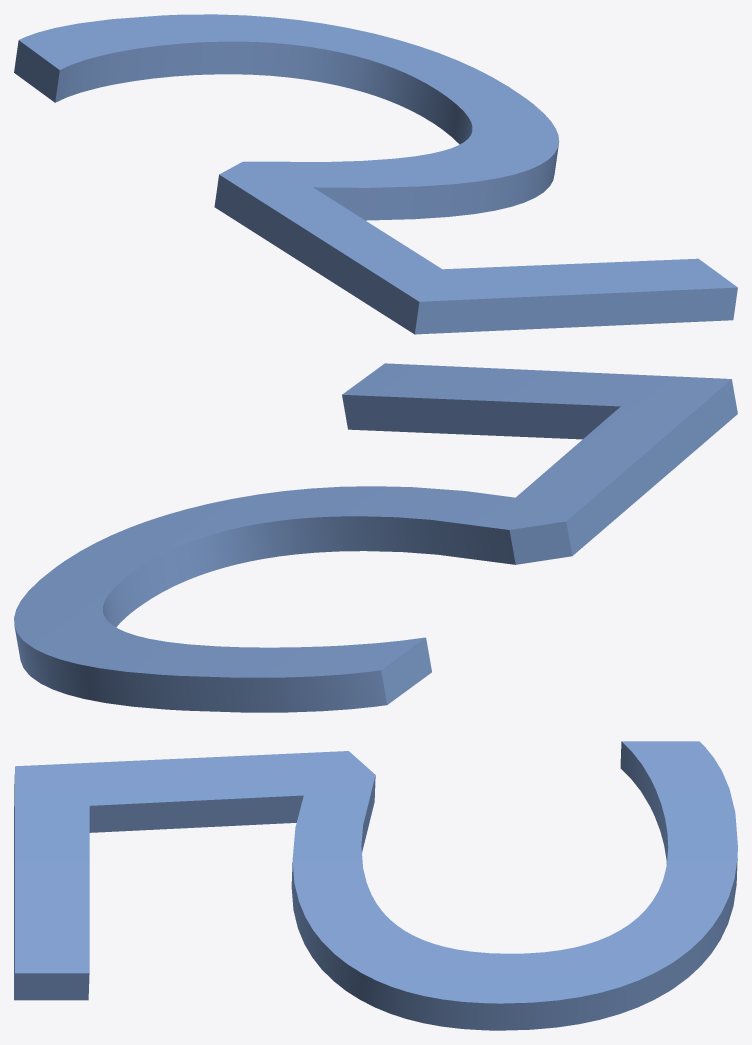
Rendered from New_Number_5.gltf.
The picture shows the model from 3 angles, top to bottom: view 1: azimuth 30°, elevation 25°; view 2: azimuth 150°, elevation 25°; view 3: azimuth 270°, elevation 25°; orthographic projection. The views are drawn at different scales.
Parts seen in each view (by area): view 1: Part 329; view 2: Part 329; view 3: Part 329.
Part boxes in pixels (left/top/right/bottom): Part 329: left=14, top=14, right=737, bottom=334; Part 329: left=14, top=363, right=737, bottom=712; Part 329: left=14, top=741, right=737, bottom=1030.
Size of the model in its own units: 0.00344 by 0.000897 by 0.00558.
